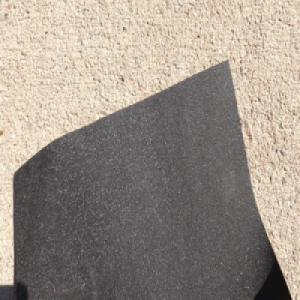PaintChip: (13, 53, 282, 300)
